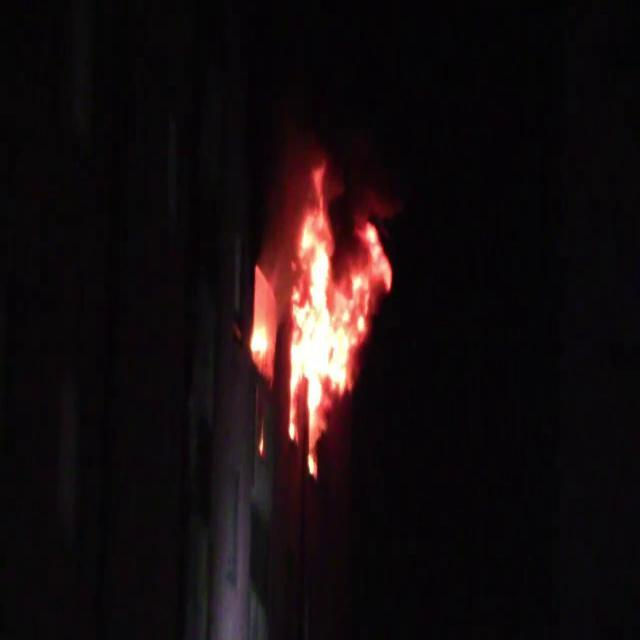Fire: (276, 160, 394, 446)
